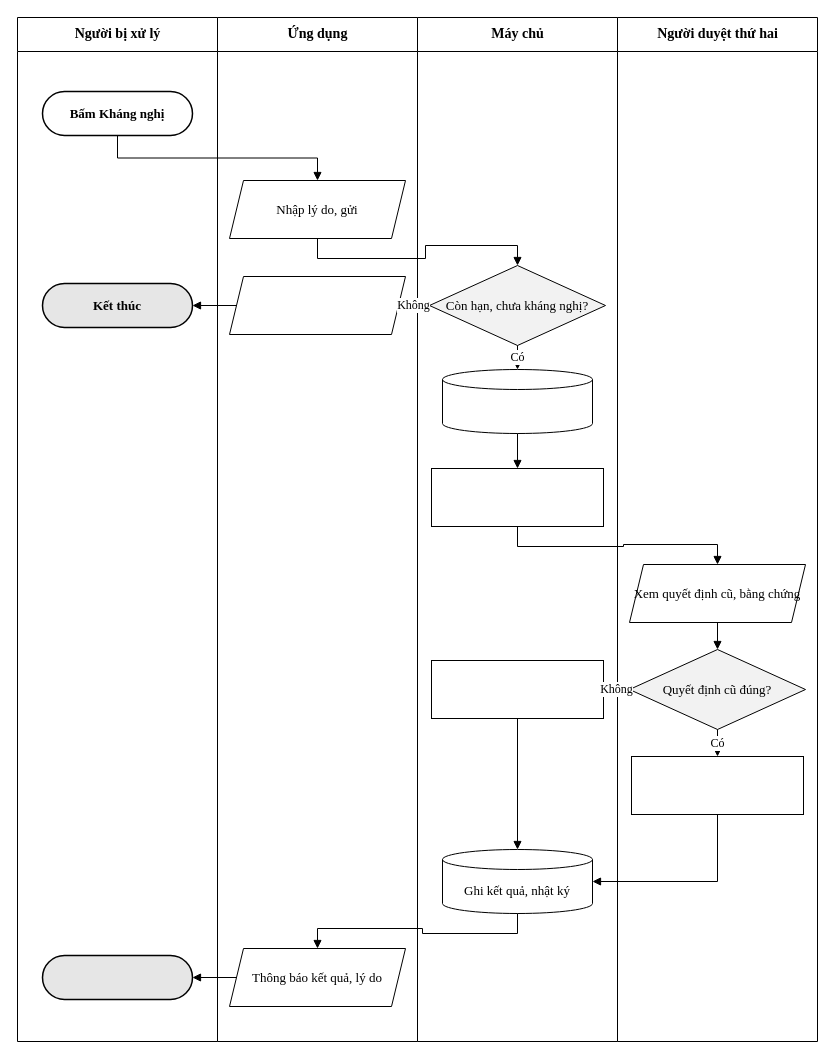
Image size: 835x1059. Some labels were removed from this diagram. The shapes that lost their labels are listed below. From the top down, each one's centre as x and y in pixels, then its label:
At point 317,305: "Báo: không thể kháng nghị".
At point 517,401: "Lưu Appeal: Chờ xem xét".
At point 517,497: "Giao người khác người xử phạt".
At point 517,689: "Đảo ngược hoặc giảm bậc".
At point 717,785: "Giữ nguyên quyết định".
At point 117,977: "Quyết định cuối cùng".
